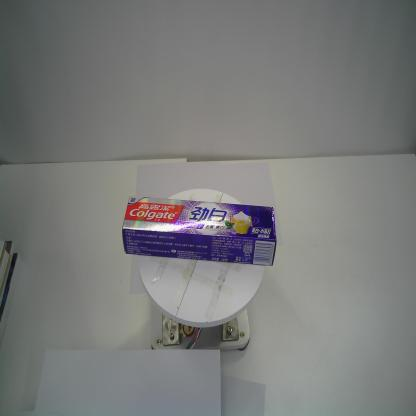Personal Hygiene: (121, 194, 278, 267)
